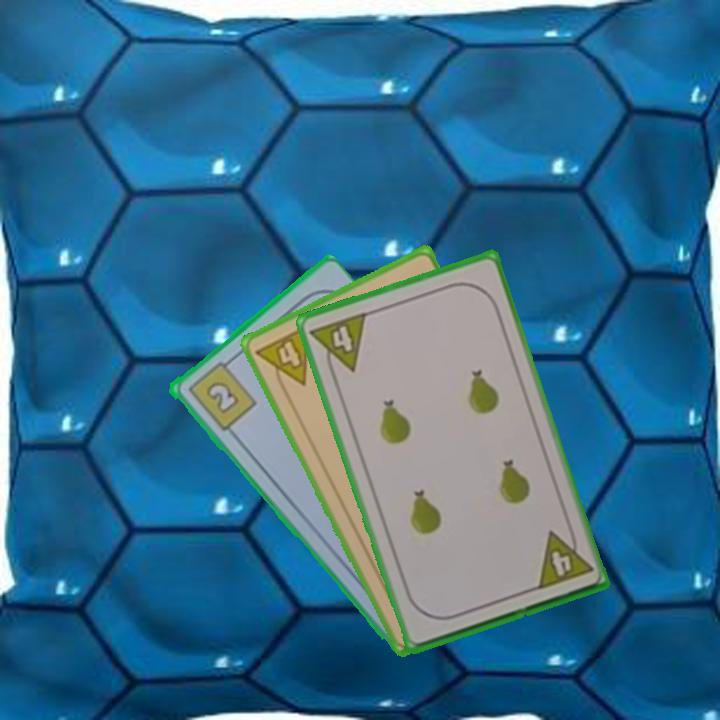2b: (183, 354, 259, 434)
4p: (252, 321, 313, 398), (306, 308, 370, 381), (532, 522, 596, 593)
